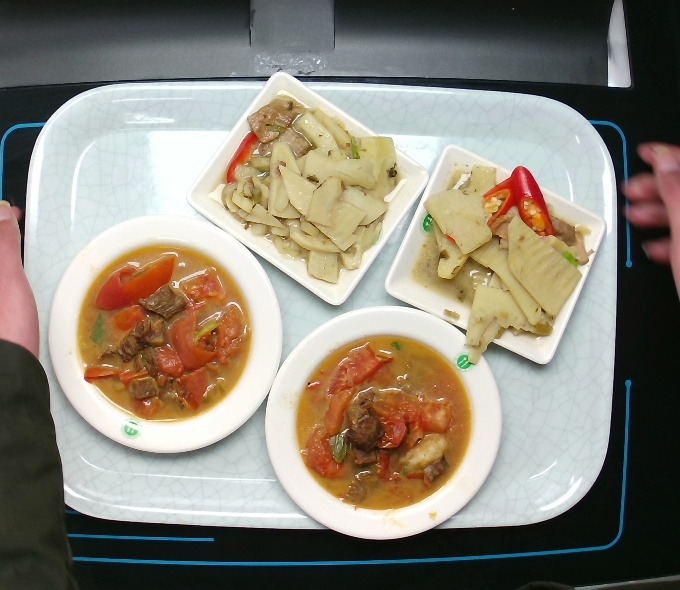wcq-DongSun: (217, 86, 412, 292), (413, 157, 589, 362)
wcq-FanQiwNiuRou: (72, 233, 265, 427), (287, 319, 480, 513)
